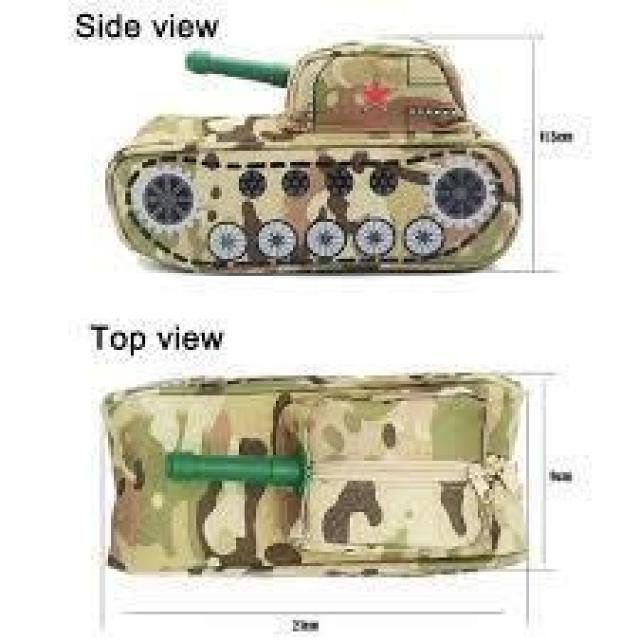Tanks: (82, 371, 532, 590), (106, 41, 528, 272)
